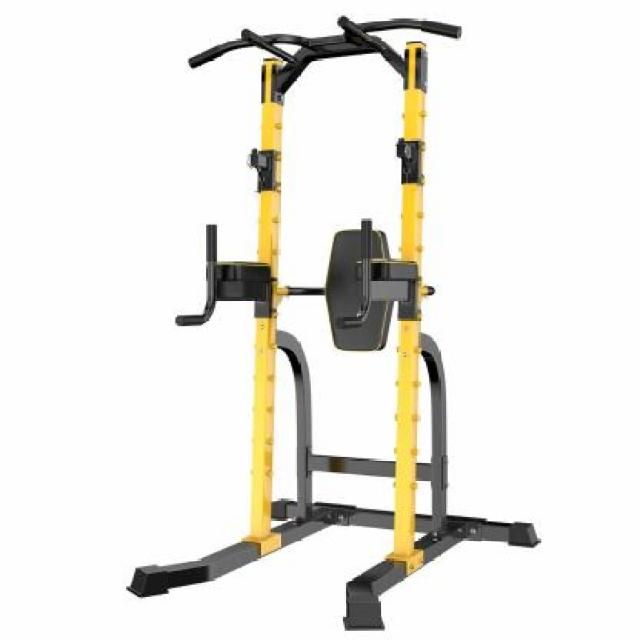chinning dipping: (128, 16, 543, 630)
